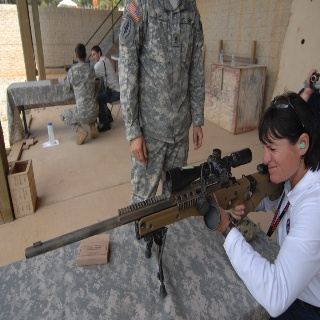rifle: (23, 147, 286, 299)
